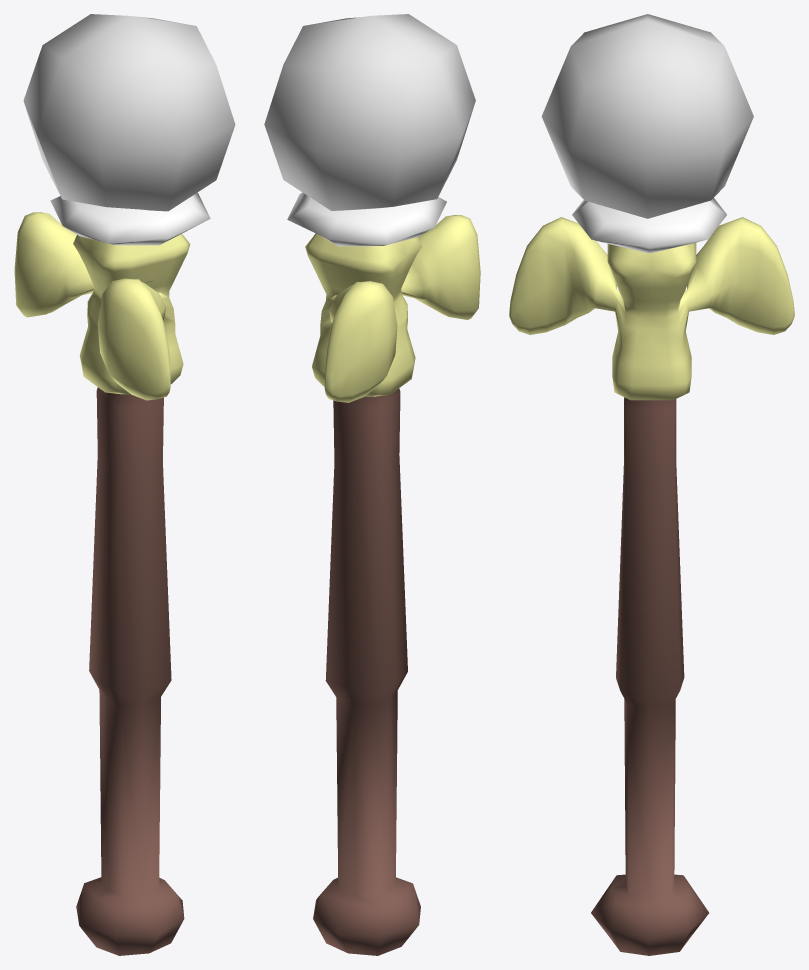
Rendered from Wand.fbx.
3 views of the same model, side by side, from view 1: azimuth 30°, elevation 25°; view 2: azimuth 150°, elevation 25°; view 3: azimuth 270°, elevation 25° (orthographic).
Visible parts, largest first — view 1: Wand; view 2: Wand; view 3: Wand.
Boxes of the visible parts, <box> form: Wand: <box>14,14,235,955</box>; Wand: <box>264,14,480,955</box>; Wand: <box>509,14,794,955</box>.
Size of the model in its own units: 168 by 801 by 226.
